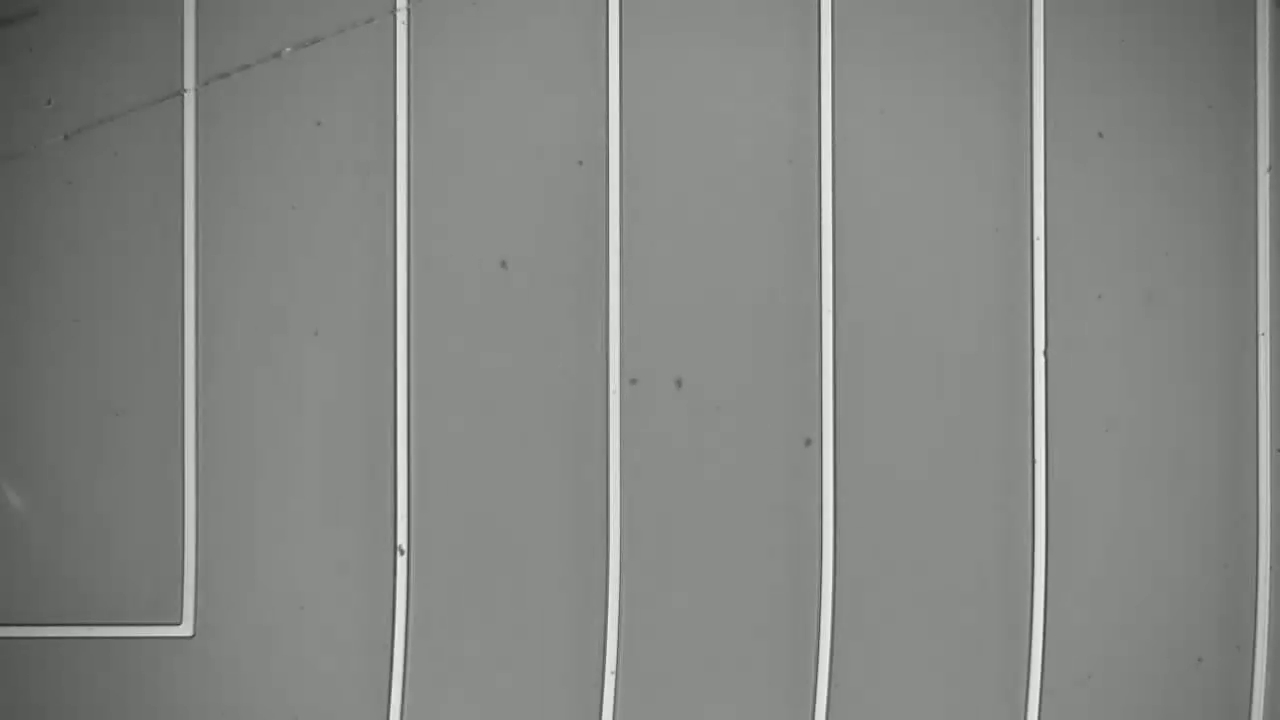scratch: (60, 10, 387, 136)
stains_enbedded: (387, 533, 418, 565)
